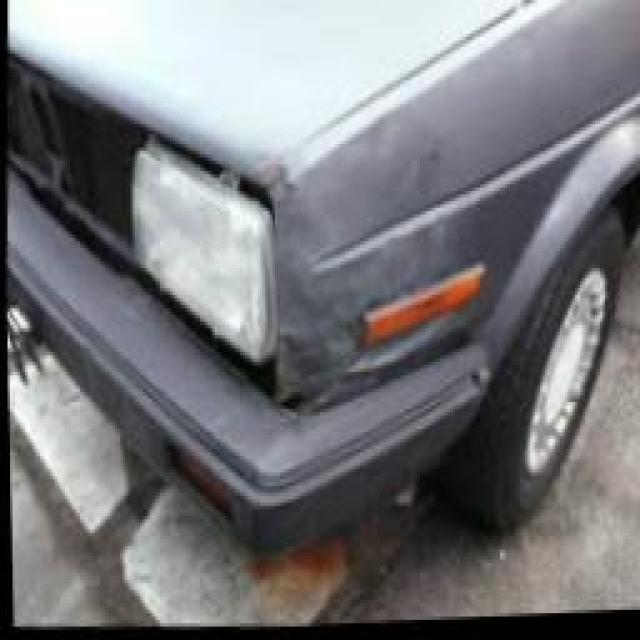Fender: (272, 312, 452, 449), (248, 154, 311, 224)
